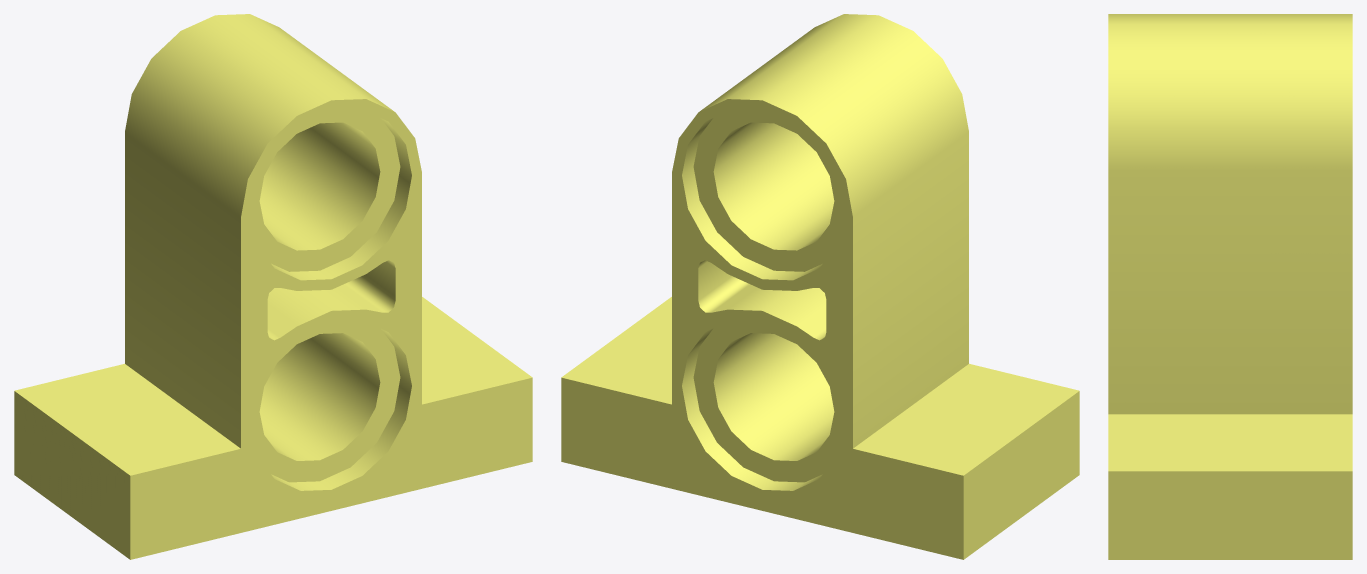
3 renders of one model, left to right at view 1: azimuth 30°, elevation 25°; view 2: azimuth 150°, elevation 25°; view 3: azimuth 270°, elevation 25°, orthographic. The views are drawn at different scales.
Parts seen in each view (by area): view 1: 32530.dat; view 2: 32530.dat; view 3: 32530.dat.
Part boxes in pixels (x1,y1,x2,y2): 32530.dat: [14, 14, 532, 559]; 32530.dat: [561, 14, 1079, 559]; 32530.dat: [1108, 14, 1352, 559].
Size of the model in its own units: 0.016 by 0.0156 by 0.008.
